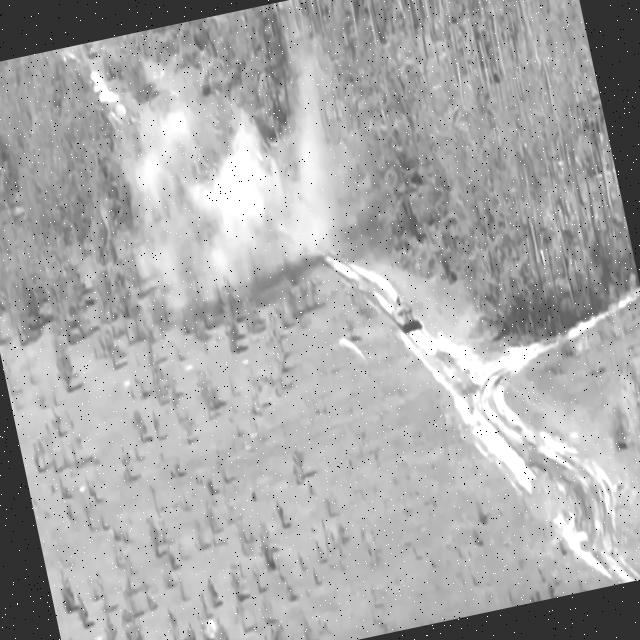MBT: (390, 293, 424, 342)
